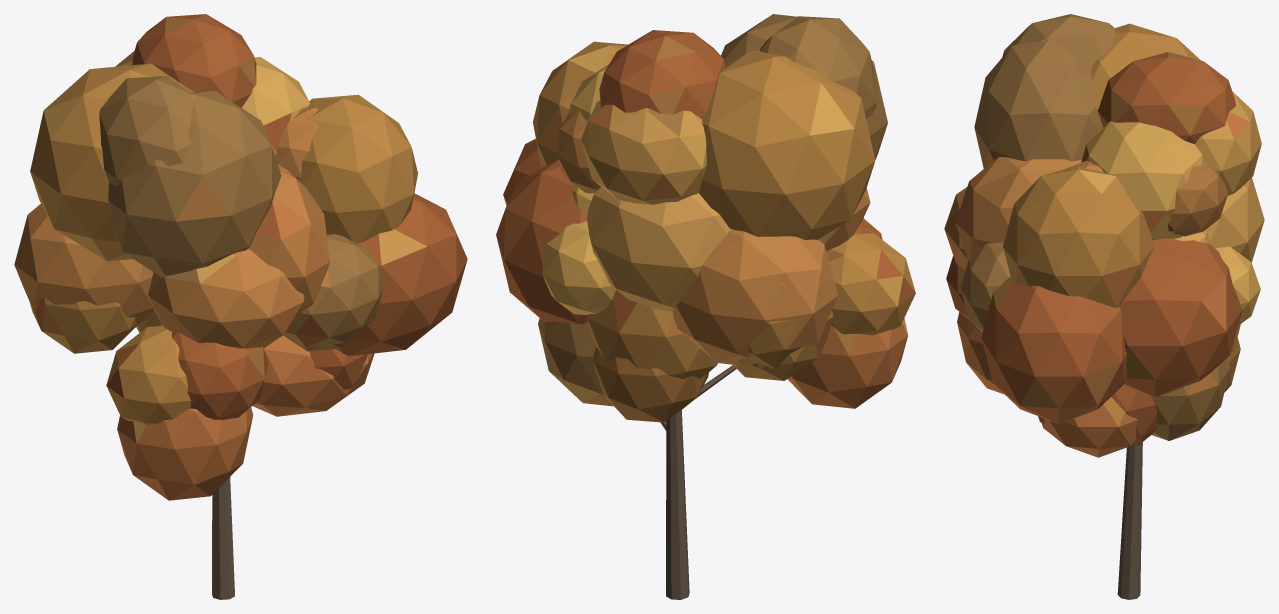
Rendered from campus-autumn-tree-v1.glb.
3 renders of one model, left to right at view 1: azimuth 30°, elevation 25°; view 2: azimuth 150°, elevation 25°; view 3: azimuth 270°, elevation 25°, orthographic. The views are drawn at different scales.
Parts seen in each view (by area): view 1: 秋色行道树 · 层叠叶冠, 秋色行道树 · 主干及分枝; view 2: 秋色行道树 · 层叠叶冠, 秋色行道树 · 主干及分枝; view 3: 秋色行道树 · 层叠叶冠, 秋色行道树 · 主干及分枝.
Boxes of the visible parts, box(x1,y1,x2,y2) form: 秋色行道树 · 层叠叶冠: box(14, 14, 467, 500); 秋色行道树 · 主干及分枝: box(151, 313, 234, 599); 秋色行道树 · 层叠叶冠: box(496, 14, 915, 422); 秋色行道树 · 主干及分枝: box(660, 365, 736, 599); 秋色行道树 · 层叠叶冠: box(944, 14, 1264, 457); 秋色行道树 · 主干及分枝: box(1117, 442, 1142, 599).
Size of the model in its own units: 4.05 by 5.85 by 3.18.
